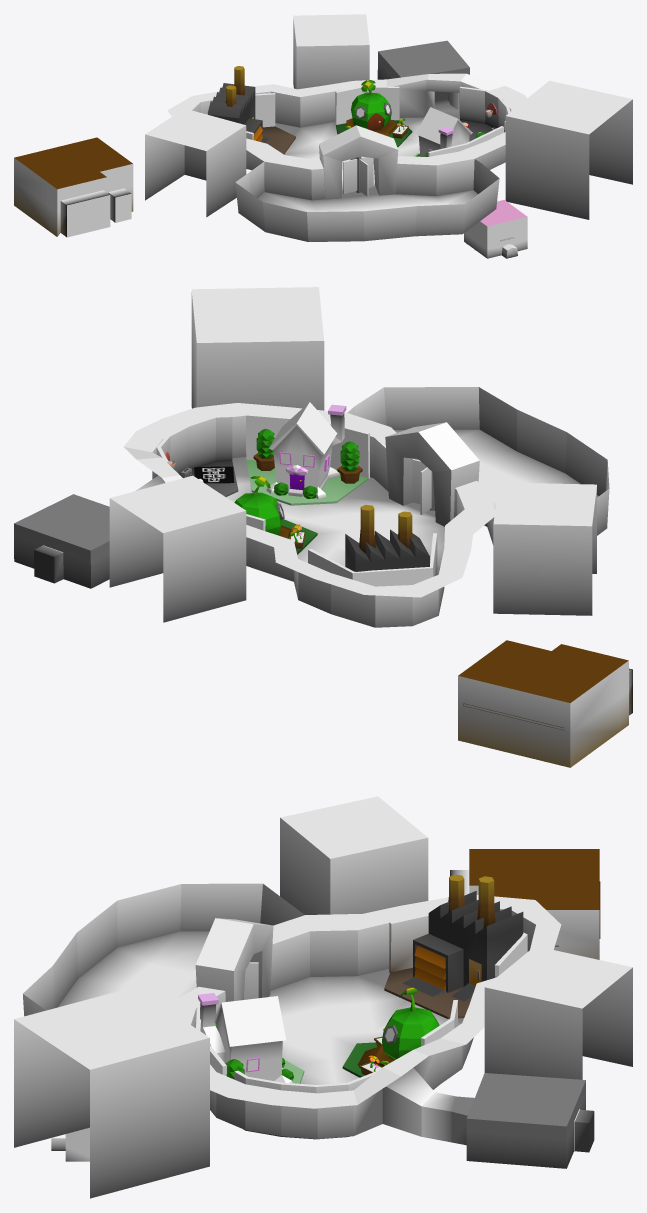
The model's file is ToyTown.fbx.
The picture shows the model from 3 angles, top to bottom: view 1: azimuth 30°, elevation 25°; view 2: azimuth 150°, elevation 25°; view 3: azimuth 270°, elevation 25°; orthographic projection. The views are drawn at different scales.
Parts seen in each view (by area): view 1: island, blocks, inside factory, backdrops, arch, inside factory.003, inside dollhouse, inside factory.002, doll house, Friend factory, Plane, sweet pea's house.002 (+2 smaller); view 2: island, blocks, inside factory, backdrops, inside factory.003, arch, doll house, Friend factory, backdrops.001, Friend factory.002, sweet pea's house.002, Plane; view 3: island, blocks, inside factory.003, Friend factory, doll house, arch, backdrops, inside factory, sweet pea's house.002, backdrops.002, Friend factory.002, Friend factory.001 (+1 smaller).
Part boxes in pixels (bbox=[...]): island: bbox=[167, 40, 527, 241]; blocks: bbox=[145, 14, 632, 219]; inside factory: bbox=[14, 158, 133, 237]; backdrops: bbox=[206, 86, 510, 156]; arch: bbox=[319, 125, 398, 199]; inside factory.003: bbox=[14, 137, 132, 189]; inside dollhouse: bbox=[464, 199, 527, 258]; inside factory.002: bbox=[67, 193, 131, 237]; doll house: bbox=[415, 107, 472, 156]; Friend factory: bbox=[207, 83, 268, 142]; Plane: bbox=[343, 156, 373, 196]; sweet pea's house.002: bbox=[351, 92, 391, 129]; island: bbox=[14, 387, 609, 627]; blocks: bbox=[109, 287, 596, 622]; inside factory: bbox=[458, 660, 632, 767]; backdrops: bbox=[156, 414, 437, 586]; inside factory.003: bbox=[458, 640, 628, 730]; arch: bbox=[385, 422, 479, 526]; doll house: bbox=[266, 402, 346, 499]; Friend factory: bbox=[345, 529, 429, 571]; backdrops.001: bbox=[246, 459, 368, 505]; Friend factory.002: bbox=[359, 505, 412, 553]; sweet pea's house.002: bbox=[234, 492, 281, 535]; Plane: bbox=[412, 459, 434, 514]; island: bbox=[23, 883, 594, 1168]; blocks: bbox=[14, 796, 632, 1198]; inside factory.003: bbox=[469, 849, 600, 938]; Friend factory: bbox=[402, 891, 523, 1001]; doll house: bbox=[198, 993, 292, 1083]; arch: bbox=[195, 918, 273, 1001]; backdrops: bbox=[196, 914, 527, 1139]; inside factory: bbox=[450, 870, 599, 959]; sweet pea's house.002: bbox=[382, 1007, 439, 1059]; backdrops.002: bbox=[384, 968, 470, 1018]; Friend factory.002: bbox=[448, 874, 495, 928]; Friend factory.001: bbox=[414, 945, 445, 989].
Bounding box in the file's own units: 10810 × 2780 × 8562.
Materials: 24 (1 with a texture image).
